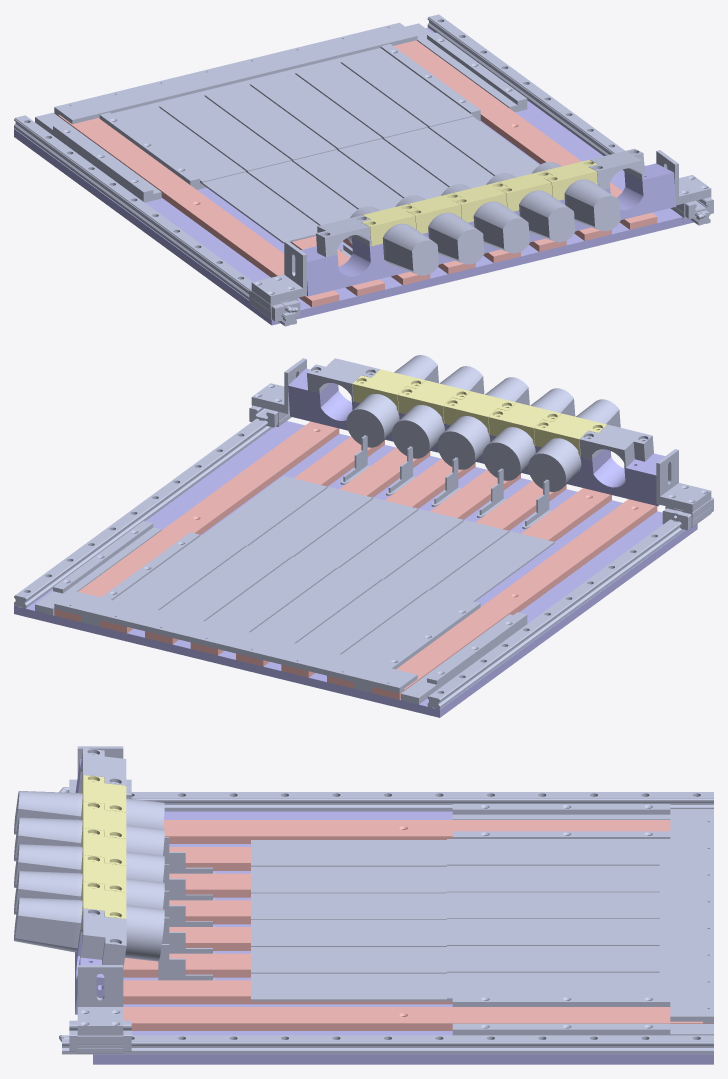
Rendered from MopSlitterCut2.glb.
3 renders of one model, top to bottom at view 1: azimuth 30°, elevation 25°; view 2: azimuth 150°, elevation 25°; view 3: azimuth 270°, elevation 25°, orthographic. The views are drawn at different scales.
Visible parts, largest first — view 1: Mop-1, Bace-1, Front Gide-1, BaceLift-10, Holder-1, H20-760L-1, BaceLift-17, H20-760L-2, WallGide-3, MirrorWallGide-6, BladeHandle-3, BladeHandle-2 (+17 smaller); view 2: Mop-1, Bace-1, Front Gide-1, BaceLift-10, BaceLift-17, Holder-1, H20-760L-1, H20-760L-2, BladeHandle-3, BladeHandle-6, BladeHandle-2, BladeHandle-1 (+23 smaller); view 3: Mop-1, Bace-1, H20-760L-2, BaceLift-17, H20-760L-1, Front Gide-1, BaceLift-10, BladeHandle-6, BaceLift-16, WallGide-3, MirrorWallGide-6, Beacket-2 (+25 smaller).
Part boxes in pixels (x1,y1,x2,y2): Mop-1: (111,48,539,243); Bace-1: (14,27,693,325); Front Gide-1: (54,22,417,123); BaceLift-10: (54,112,339,307); Holder-1: (301,163,676,296); H20-760L-1: (14,115,296,326); BaceLift-17: (393,40,657,229); H20-760L-2: (427,14,710,225); WallGide-3: (35,112,161,202); MirrorWallGide-6: (405,23,527,112); BladeHandle-3: (347,206,438,275); BladeHandle-2: (395,195,484,264); Mop-1: (113,476,554,665); Bace-1: (14,421,697,717); Front Gide-1: (54,590,417,691); BaceLift-10: (372,499,657,699); BaceLift-17: (54,421,339,622); Holder-1: (288,368,664,506); H20-760L-1: (427,519,684,709); H20-760L-2: (14,418,272,608); BladeHandle-3: (528,399,620,491); BladeHandle-6: (346,355,438,447); BladeHandle-2: (482,388,575,480); BladeHandle-1: (437,377,529,469); Mop-1: (251,839,670,1001); Bace-1: (93,811,713,1064); H20-760L-2: (62,1035,713,1054); BaceLift-17: (123,1007,713,1030); H20-760L-1: (131,792,713,811); Front Gide-1: (670,813,713,1021); BaceLift-10: (163,820,670,843); BladeHandle-6: (14,897,164,961); BaceLift-16: (123,980,452,1004); WallGide-3: (452,804,713,819); MirrorWallGide-6: (452,1023,713,1035); Beacket-2: (77,965,123,1035).
Bounding box in the file's own units: 0.7148 × 0.122 × 0.816.
